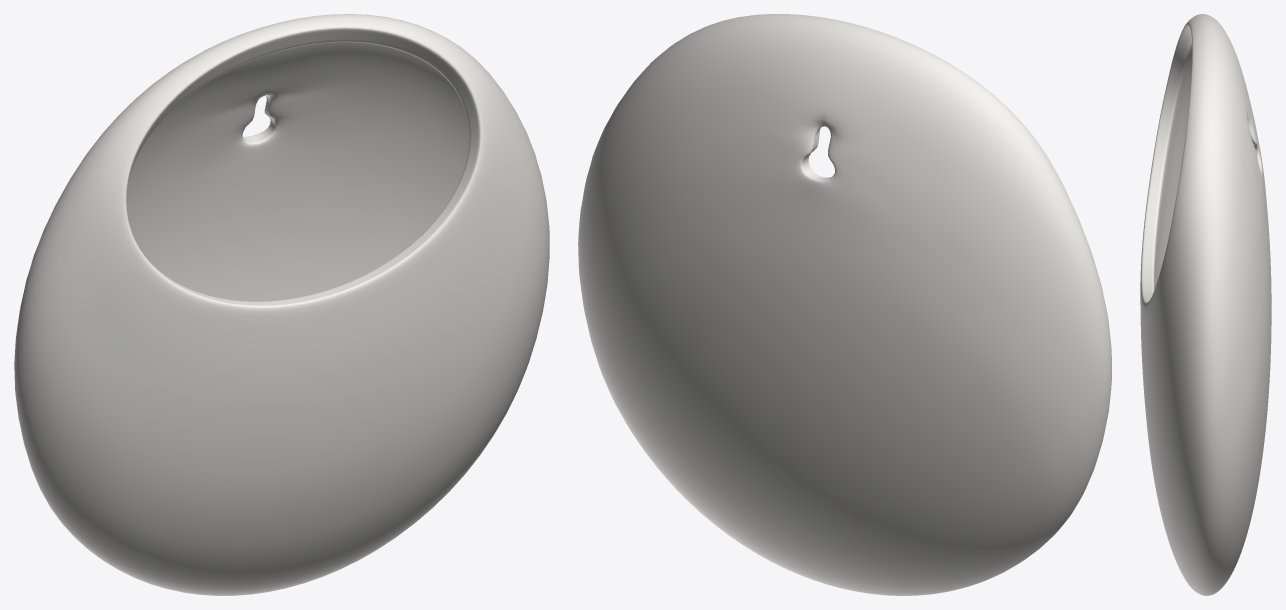
Rendered from planter_B075HXLWRL.glb.
3 renders of one model, left to right at view 1: azimuth 30°, elevation 25°; view 2: azimuth 150°, elevation 25°; view 3: azimuth 270°, elevation 25°, orthographic. The views are drawn at different scales.
Visible parts, largest first — view 1: RootNode; view 2: RootNode; view 3: RootNode.
Boxes of the visible parts, <box> form: RootNode: <box>14,14,549,595</box>; RootNode: <box>578,14,1111,595</box>; RootNode: <box>1140,14,1271,595</box>.
Bounding box in the file's own units: 0.1851 × 0.1876 × 0.0425.
Materials: 1 (1 with a texture image).
